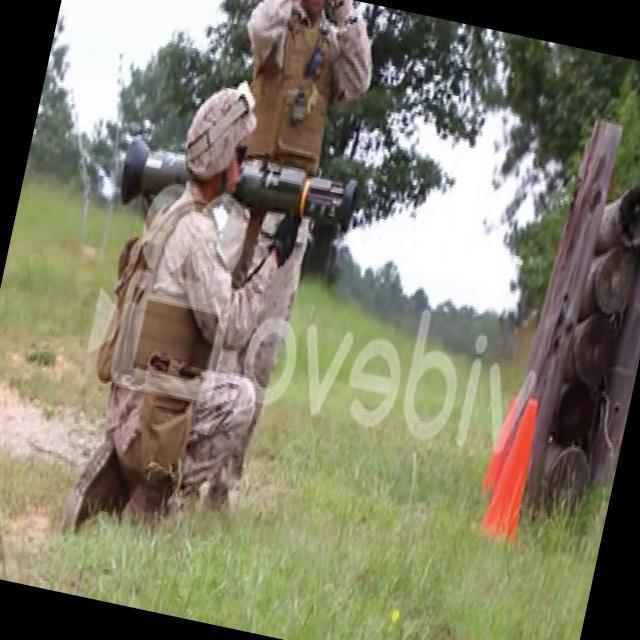rocket: (116, 125, 360, 248)
